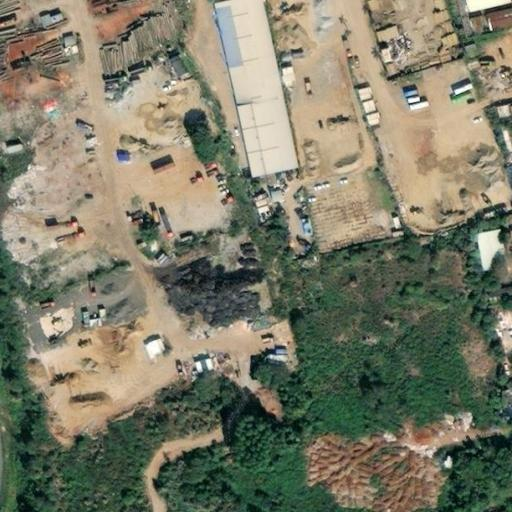building: (206, 0, 290, 179), (0, 21, 63, 63), (475, 0, 512, 36), (469, 229, 497, 268), (164, 48, 191, 79), (140, 331, 166, 358), (479, 283, 512, 302), (456, 406, 479, 423), (499, 229, 512, 251), (491, 408, 504, 418), (492, 390, 500, 403), (443, 405, 454, 414), (496, 417, 505, 423)
